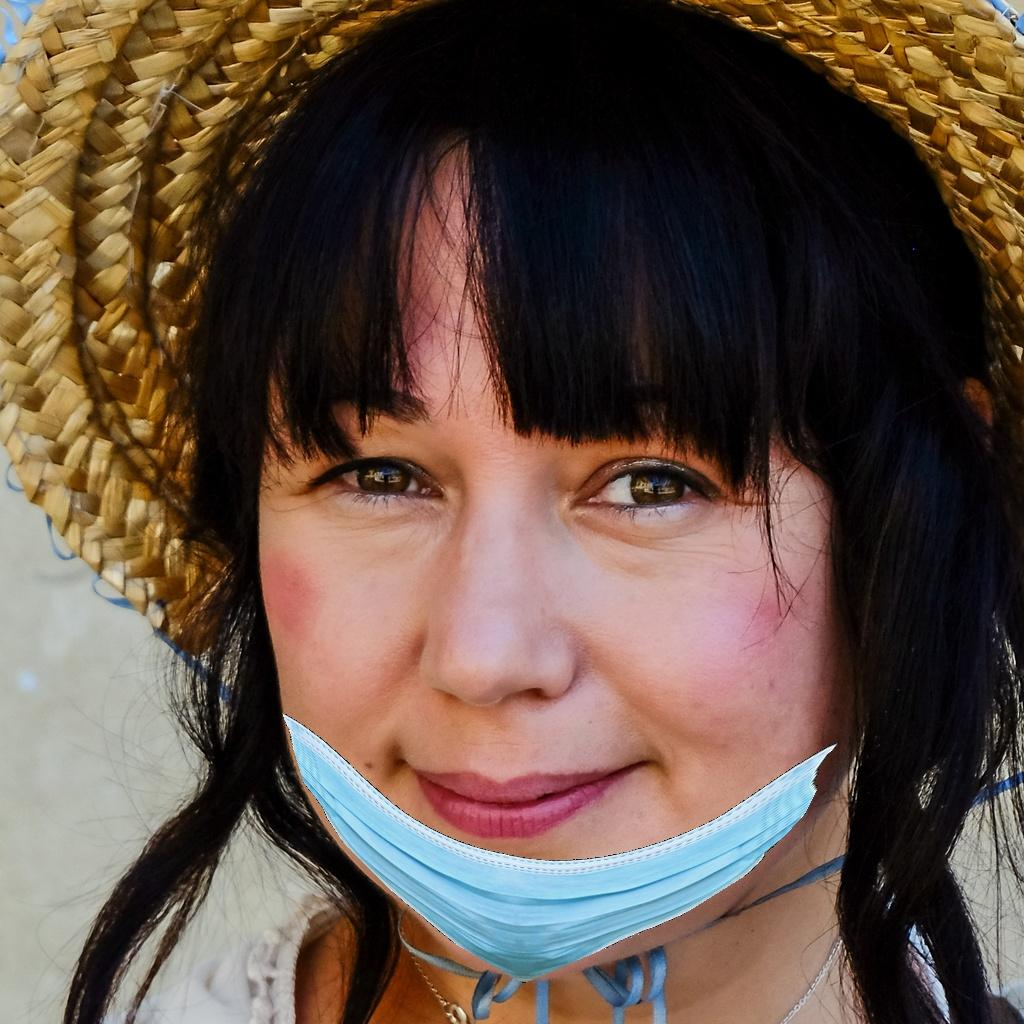Máscara Incorreta: (233, 273, 856, 956)
